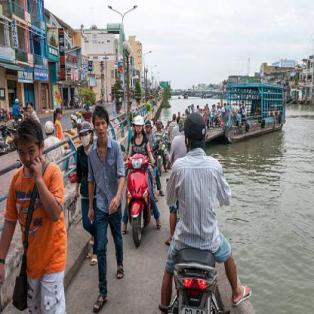Motocicleta: (160, 236, 226, 313), (121, 145, 154, 244)
